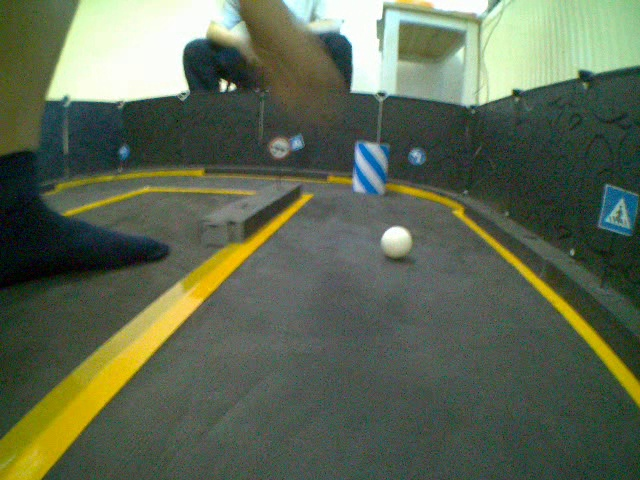ball: (380, 224, 415, 263)
bucket: (350, 137, 390, 198)
